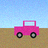vehicle: (14, 21, 39, 38)
